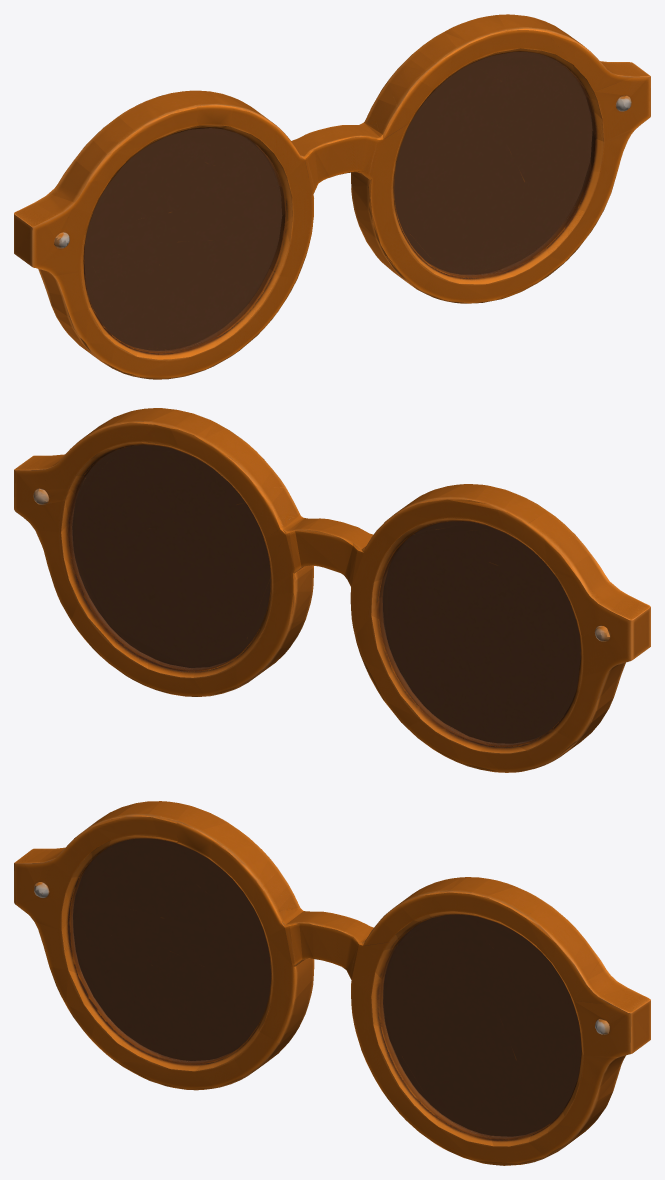
The model's file is sunglasses.glb.
3 views of the same model, one above another, from view 1: azimuth 30°, elevation 25°; view 2: azimuth 150°, elevation 25°; view 3: azimuth 330°, elevation 25° (orthographic).
Bounding box in the file's own units: 1.9 × 0.7904 × 0.1474.
Materials: 1 (1 with a texture image).
